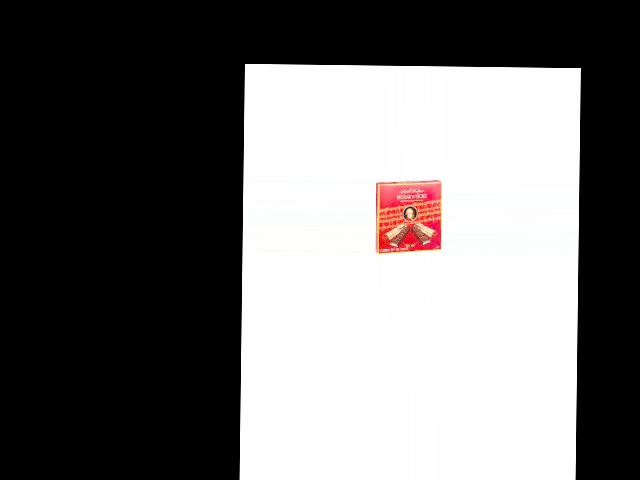chocolate: (374, 180, 443, 256)
